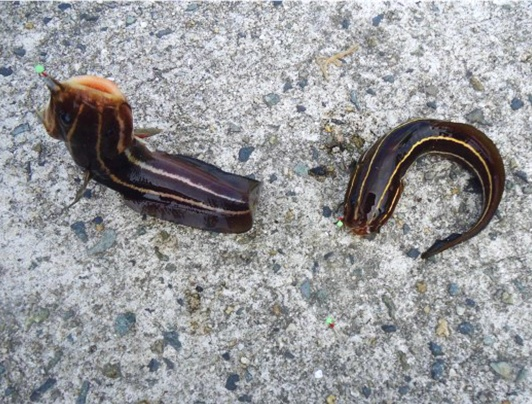gonzui: (36, 65, 275, 255), (318, 111, 515, 260)
